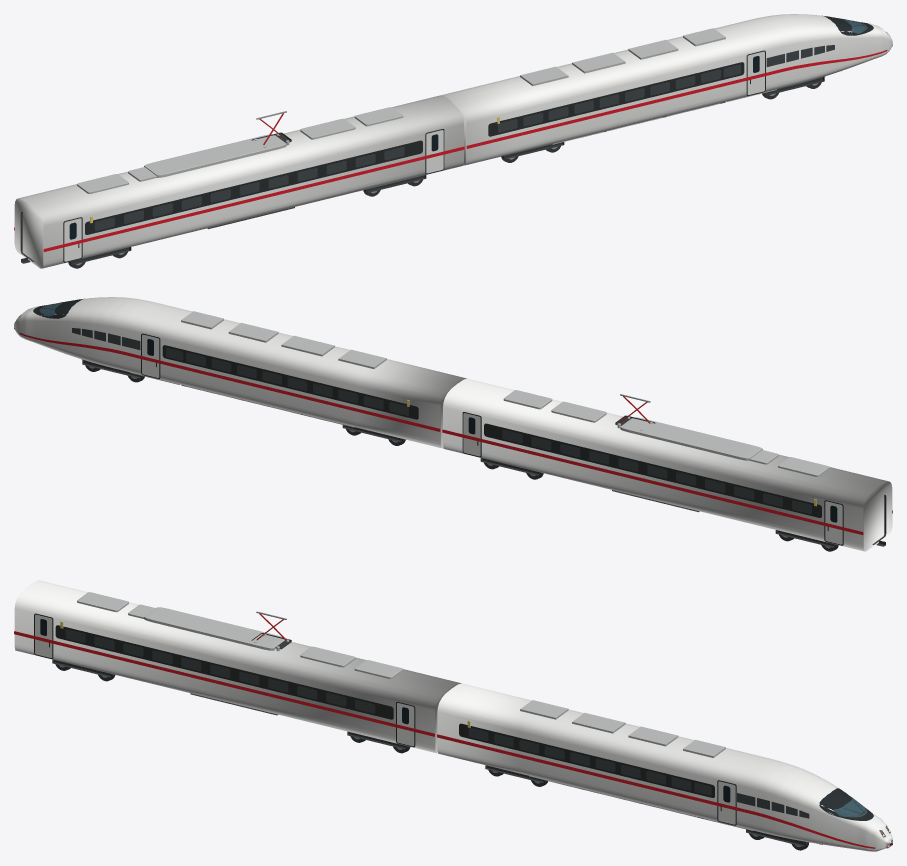
The model's file is ice3-br403-v2-continuity-checkpoint.glb.
3 views of the same model, one above another, from view 1: azimuth 30°, elevation 25°; view 2: azimuth 150°, elevation 25°; view 3: azimuth 330°, elevation 25° (orthographic).
Parts seen in each view (by area): view 1: ice3_continuity_shared_transformer_shell.001, ice3_v2_reference_calibrated_cab_shell.001, ice3_continuity_403_1_continuous_black_glazing_band_-1.001, ice3_v2_first_transformer_403_1_transformer_roof_cabinet.001, ice3_continuity_403_0_continuous_black_glazing_band_-1.001, ice3_continuity_403_1_shared_red_body_stripe_-1.001, ice3_continuity_403_0_shared_red_body_stripe_-1.001, ice3_v2_first_transformer_403_1_roof_fairing_3.001, ice3_v2_roof_fairing_1.001, ice3_v2_first_transformer_403_1_roof_fairing_0.001, ice3_continuity_403_1_rear_door_leaf_-1.001, ice3_continuity_403_1_front_door_leaf_-1.001 (+4 smaller); view 2: ice3_continuity_shared_transformer_shell.001, ice3_v2_reference_calibrated_cab_shell.001, ice3_continuity_403_1_continuous_black_glazing_band_1.001, ice3_v2_first_transformer_403_1_transformer_roof_cabinet.001, ice3_continuity_403_0_continuous_black_glazing_band_1.001, ice3_continuity_403_1_shared_red_body_stripe_1.001, ice3_continuity_403_0_shared_red_body_stripe_1.001, ice3_v2_first_transformer_403_1_roof_fairing_3.001, ice3_v2_roof_fairing_1.001, ice3_v2_first_transformer_403_1_roof_fairing_0.001, ice3_continuity_403_1_rear_door_leaf_1.001, ice3_continuity_403_1_front_door_leaf_1.001 (+4 smaller); view 3: ice3_v2_reference_calibrated_cab_shell.001, ice3_continuity_shared_transformer_shell.001, ice3_continuity_403_1_continuous_black_glazing_band_-1.001, ice3_v2_first_transformer_403_1_transformer_roof_cabinet.001, ice3_continuity_403_0_continuous_black_glazing_band_-1.001, ice3_continuity_403_1_shared_red_body_stripe_-1.001, ice3_continuity_403_0_shared_red_body_stripe_-1.001, ice3_v2_panorama_windscreen_seal.001, ice3_v2_first_transformer_403_1_roof_fairing_3.001, ice3_v2_roof_fairing_1.001, ice3_v2_first_transformer_403_1_roof_fairing_0.001, ice3_continuity_403_0_door_leaf_-1.001 (+5 smaller).
Boxes of the visible parts, x1,y1,x2,y2 form: ice3_continuity_shared_transformer_shell.001: [14, 95, 463, 268]; ice3_v2_reference_calibrated_cab_shell.001: [440, 14, 892, 165]; ice3_continuity_403_1_continuous_black_glazing_band_-1.001: [85, 140, 422, 234]; ice3_v2_first_transformer_403_1_transformer_roof_cabinet.001: [144, 134, 286, 177]; ice3_continuity_403_0_continuous_black_glazing_band_-1.001: [488, 62, 744, 136]; ice3_continuity_403_1_shared_red_body_stripe_-1.001: [43, 146, 464, 251]; ice3_continuity_403_0_shared_red_body_stripe_-1.001: [466, 71, 773, 148]; ice3_v2_first_transformer_403_1_roof_fairing_3.001: [300, 118, 355, 139]; ice3_v2_roof_fairing_1.001: [572, 52, 625, 73]; ice3_v2_first_transformer_403_1_roof_fairing_0.001: [77, 174, 128, 193]; ice3_continuity_403_1_rear_door_leaf_-1.001: [64, 218, 81, 261]; ice3_continuity_403_1_front_door_leaf_-1.001: [426, 130, 443, 173]; ice3_continuity_shared_transformer_shell.001: [443, 378, 892, 551]; ice3_v2_reference_calibrated_cab_shell.001: [14, 297, 466, 448]; ice3_continuity_403_1_continuous_black_glazing_band_1.001: [484, 423, 821, 517]; ice3_v2_first_transformer_403_1_transformer_roof_cabinet.001: [620, 417, 762, 460]; ice3_continuity_403_0_continuous_black_glazing_band_1.001: [162, 345, 418, 419]; ice3_continuity_403_1_shared_red_body_stripe_1.001: [442, 429, 863, 534]; ice3_continuity_403_0_shared_red_body_stripe_1.001: [133, 354, 440, 431]; ice3_v2_first_transformer_403_1_roof_fairing_3.001: [551, 401, 606, 422]; ice3_v2_roof_fairing_1.001: [281, 335, 334, 356]; ice3_v2_first_transformer_403_1_roof_fairing_0.001: [778, 457, 829, 476]; ice3_continuity_403_1_rear_door_leaf_1.001: [825, 501, 842, 544]; ice3_continuity_403_1_front_door_leaf_1.001: [463, 413, 480, 456]; ice3_v2_reference_calibrated_cab_shell.001: [437, 683, 892, 851]; ice3_continuity_shared_transformer_shell.001: [14, 580, 461, 753]; ice3_continuity_403_1_continuous_black_glazing_band_-1.001: [55, 625, 393, 719]; ice3_v2_first_transformer_403_1_transformer_roof_cabinet.001: [144, 607, 285, 650]; ice3_continuity_403_0_continuous_black_glazing_band_-1.001: [459, 723, 714, 797]; ice3_continuity_403_1_shared_red_body_stripe_-1.001: [14, 631, 434, 736]; ice3_continuity_403_0_shared_red_body_stripe_-1.001: [437, 734, 744, 812]; ice3_v2_panorama_windscreen_seal.001: [819, 788, 873, 820]; ice3_v2_first_transformer_403_1_roof_fairing_3.001: [300, 646, 355, 667]; ice3_v2_roof_fairing_1.001: [572, 713, 625, 733]; ice3_v2_first_transformer_403_1_roof_fairing_0.001: [77, 592, 128, 612]; ice3_continuity_403_0_door_leaf_-1.001: [718, 781, 735, 824].
Bounding box in the file's own units: 51.04 × 5.56 × 3.05.
